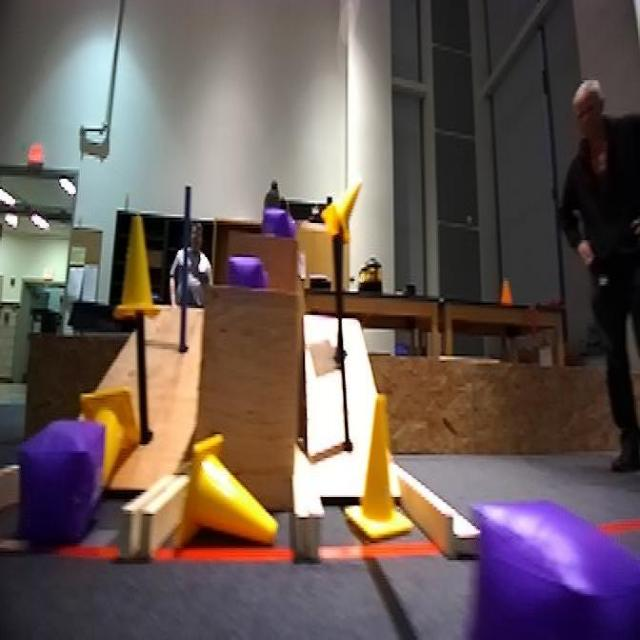frc_cone: (178, 434, 277, 555), (339, 393, 413, 541), (77, 390, 136, 492), (113, 215, 161, 316), (322, 176, 362, 243)
frc_cube: (472, 495, 639, 640), (15, 419, 104, 543), (228, 250, 266, 286), (262, 203, 296, 238)
